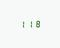eight: (33, 19, 39, 27)
one: (18, 20, 24, 28), (26, 20, 32, 27)
